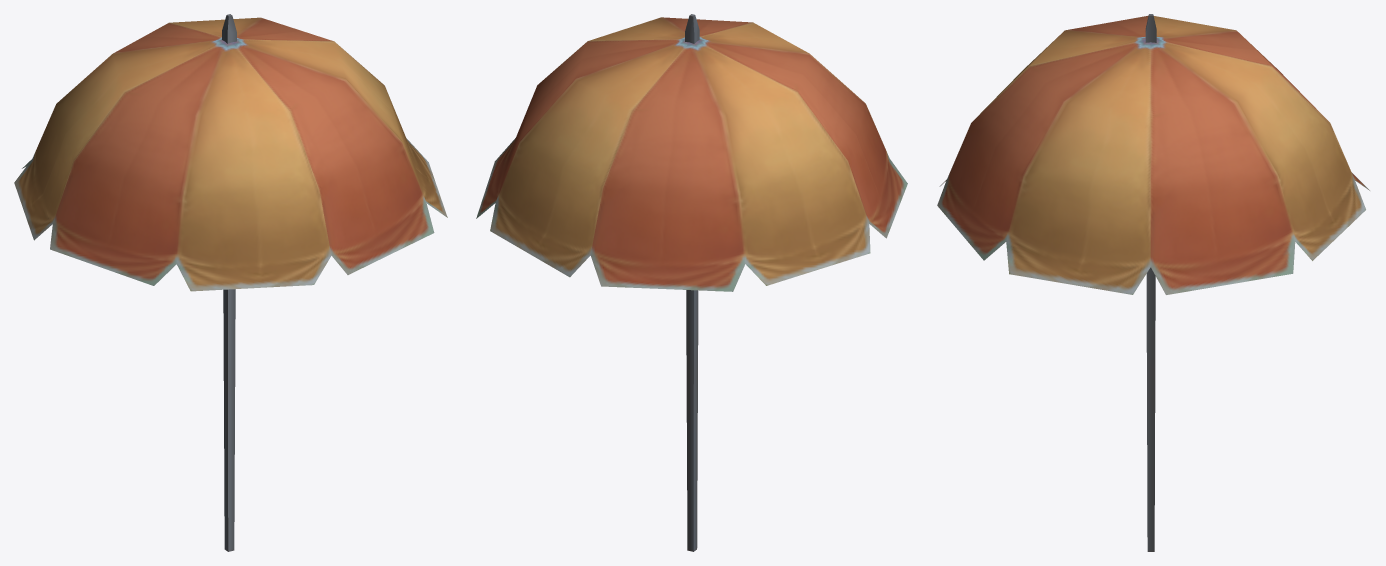
The model's file is map_1002_wj_27.FBX.
The picture shows the model from 3 angles, left to right: view 1: azimuth 30°, elevation 25°; view 2: azimuth 150°, elevation 25°; view 3: azimuth 270°, elevation 25°; orthographic projection.
Visible parts, largest first — view 1: map_1002_wj_27; view 2: map_1002_wj_27; view 3: map_1002_wj_27.
Part boxes in pixels (x1,y1,x2,y2): map_1002_wj_27: (14, 14, 447, 551); map_1002_wj_27: (476, 14, 907, 551); map_1002_wj_27: (937, 14, 1369, 551).
Bounding box in the file's own units: 3.06 × 4.14 × 3.05.
